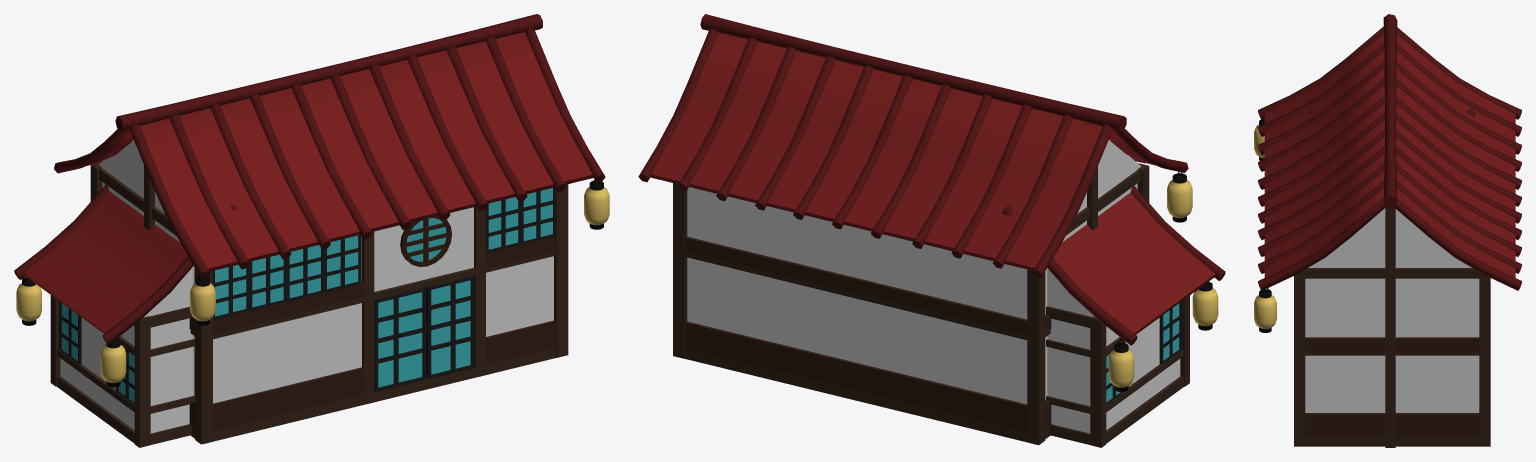
Rendered from SM_inn_japan.fbx.
3 views of the same model, side by side, from view 1: azimuth 30°, elevation 25°; view 2: azimuth 150°, elevation 25°; view 3: azimuth 270°, elevation 25° (orthographic). The views are drawn at different scales.
Visible parts, largest first — view 1: Object02323232; view 2: Object02323232; view 3: Object02323232.
Part boxes in pixels (x1,y1,x2,y2): Object02323232: (14, 14, 609, 447); Object02323232: (638, 14, 1225, 447); Object02323232: (1254, 14, 1521, 447).
Bounding box in the file's own units: 408 × 242 × 223.
